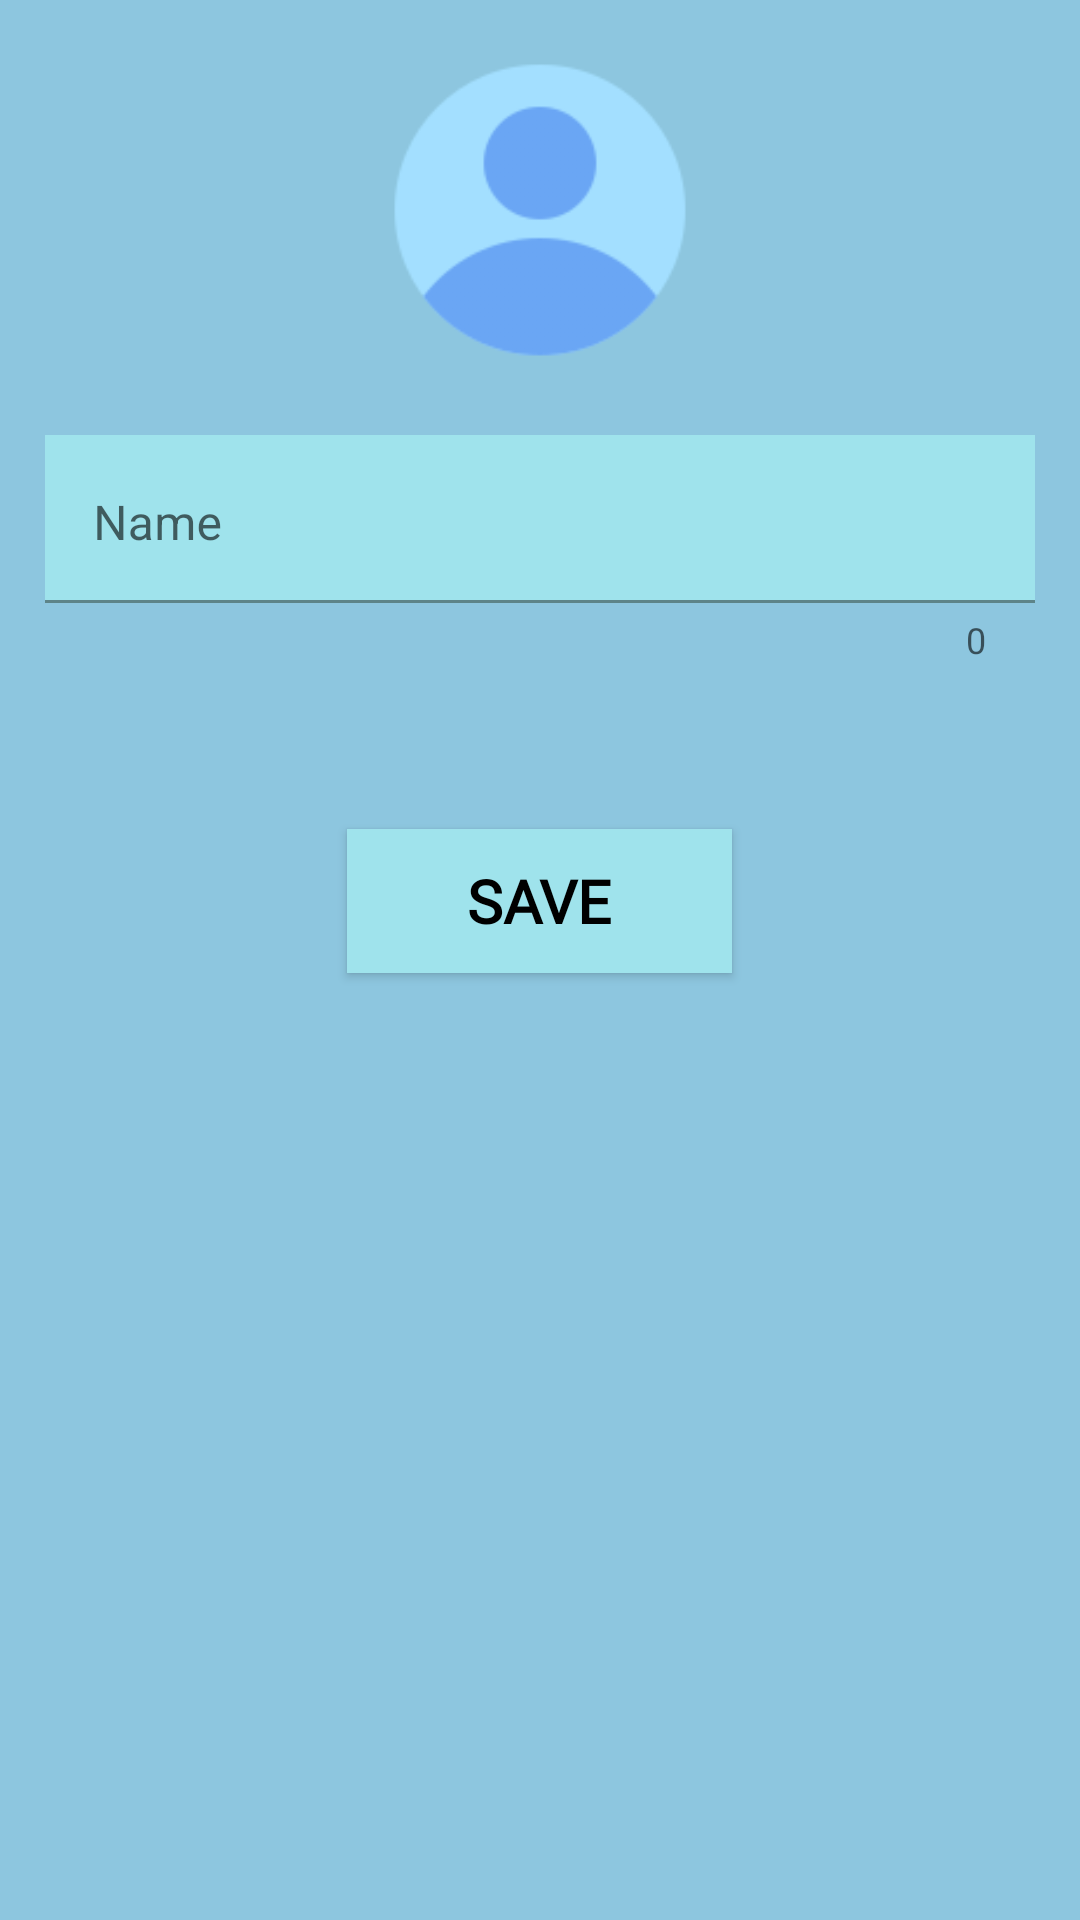

Named icons in this screenshot (1080 x 1920) and their bounding boxes, (x1, y1, x2, y2):
usertort: (395, 65, 685, 355)
